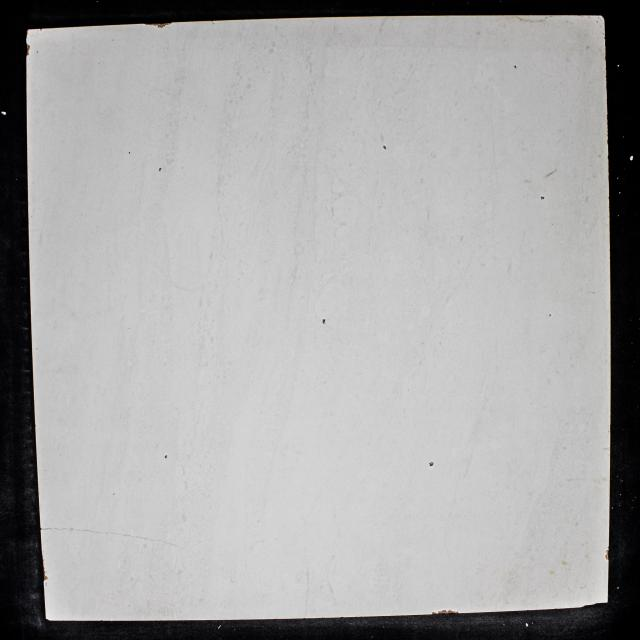edge-chipping: (143, 22, 173, 28), (582, 602, 608, 607), (438, 609, 460, 614), (43, 567, 49, 582), (26, 42, 31, 56), (605, 550, 609, 560), (431, 612, 437, 614)
hole: (322, 318, 327, 324), (429, 461, 434, 467), (382, 145, 388, 150), (540, 196, 545, 200), (158, 167, 162, 172), (164, 455, 168, 459), (514, 65, 518, 69), (549, 314, 552, 317)
line: (41, 526, 179, 547)
